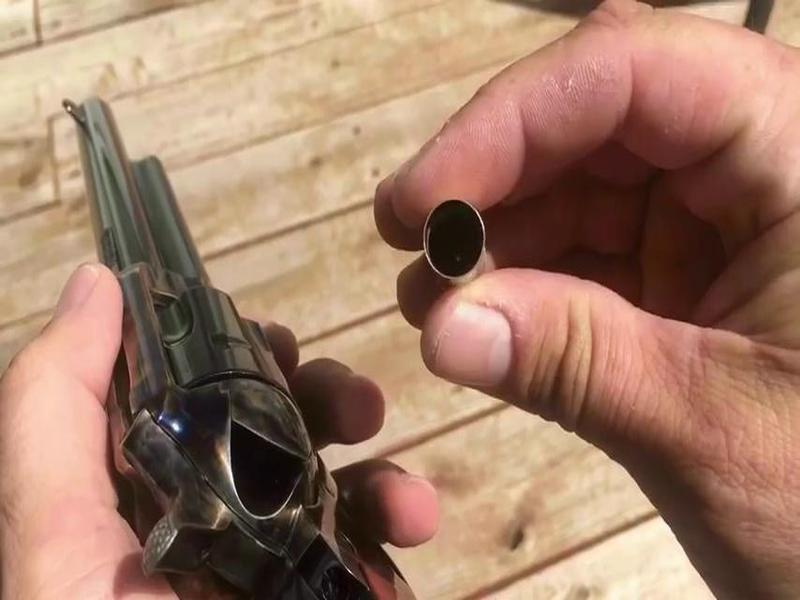Revolver: (57, 73, 344, 600)
